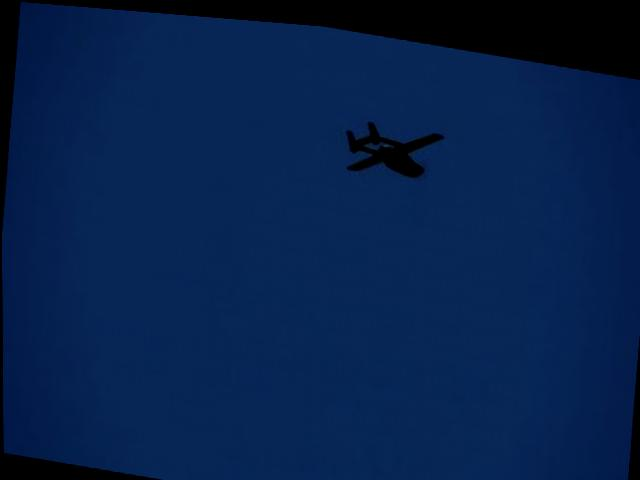uav: (342, 108, 446, 181)
